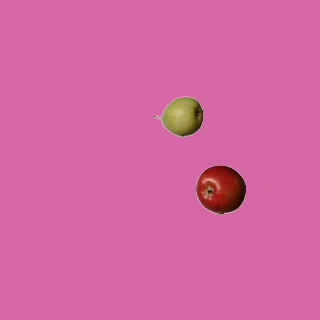Apple Braeburn: (195, 164, 245, 214)
Pear: (152, 91, 202, 141)
